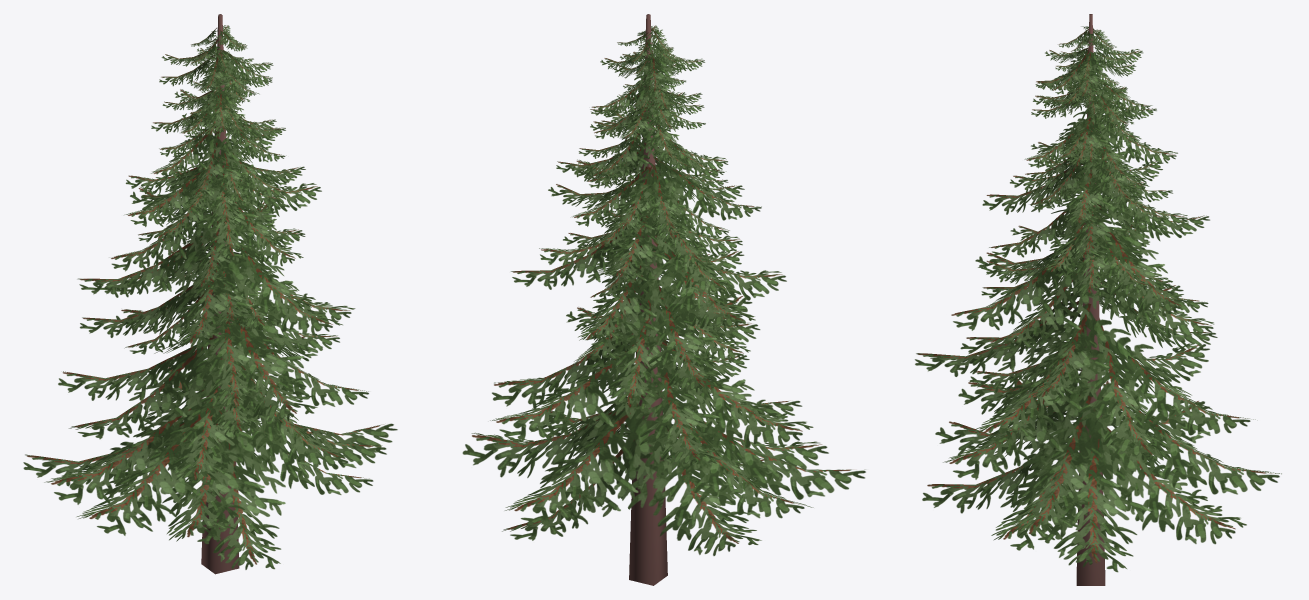
File: PineeTree.glb
3 renders of one model, left to right at view 1: azimuth 30°, elevation 25°; view 2: azimuth 150°, elevation 25°; view 3: azimuth 270°, elevation 25°, orthographic. The views are drawn at different scales.
Parts seen in each view (by area): view 1: Cube; view 2: Cube; view 3: Cube.
Boxes of the visible parts, left/top/right/bottom form: Cube: left=23, top=14, right=397, bottom=574; Cube: left=462, top=14, right=865, bottom=585; Cube: left=915, top=14, right=1281, bottom=585.
Size of the model in its own units: 15.22 by 21.64 by 13.48.
2 materials, 1 textured.
